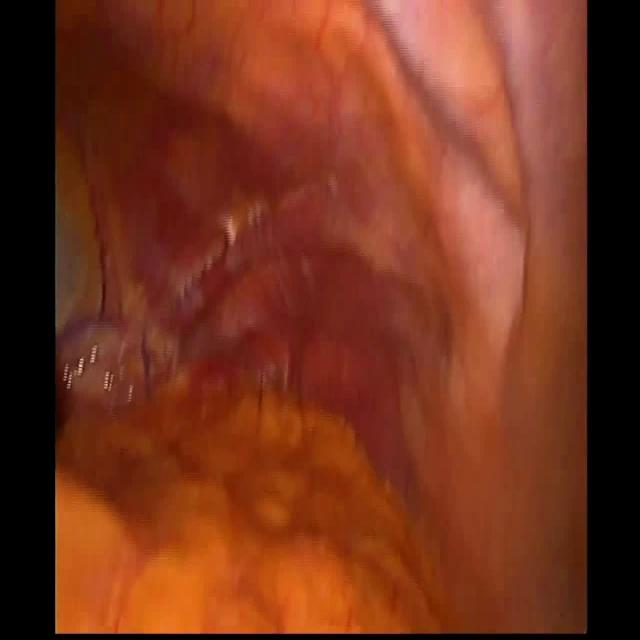surgical-area: (55, 0, 588, 633)
